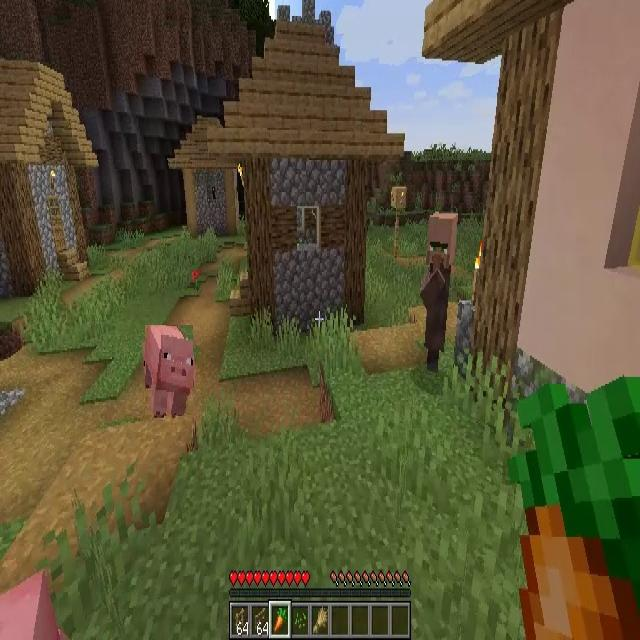pig: (145, 326, 193, 416)
